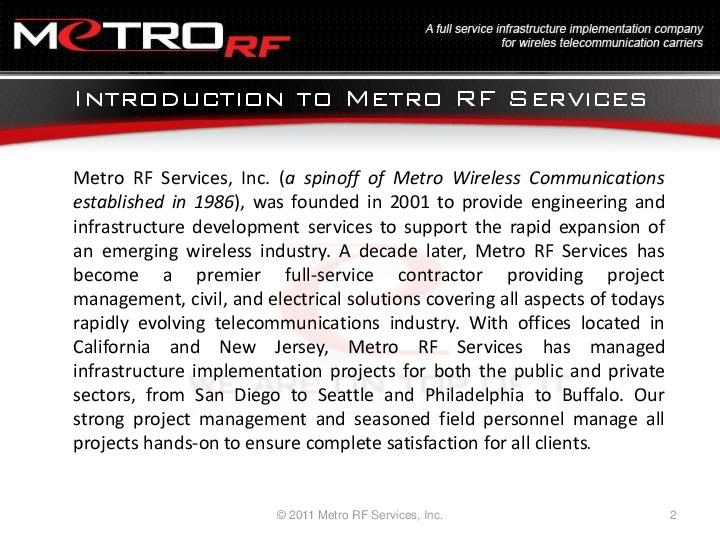paragraph: (57, 146, 683, 474)
subtitle: (69, 86, 657, 117)
title: (3, 8, 720, 70)
